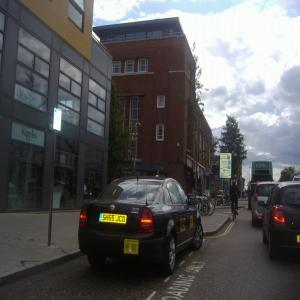Vehicle-registration-plate: (100, 214, 128, 224)
